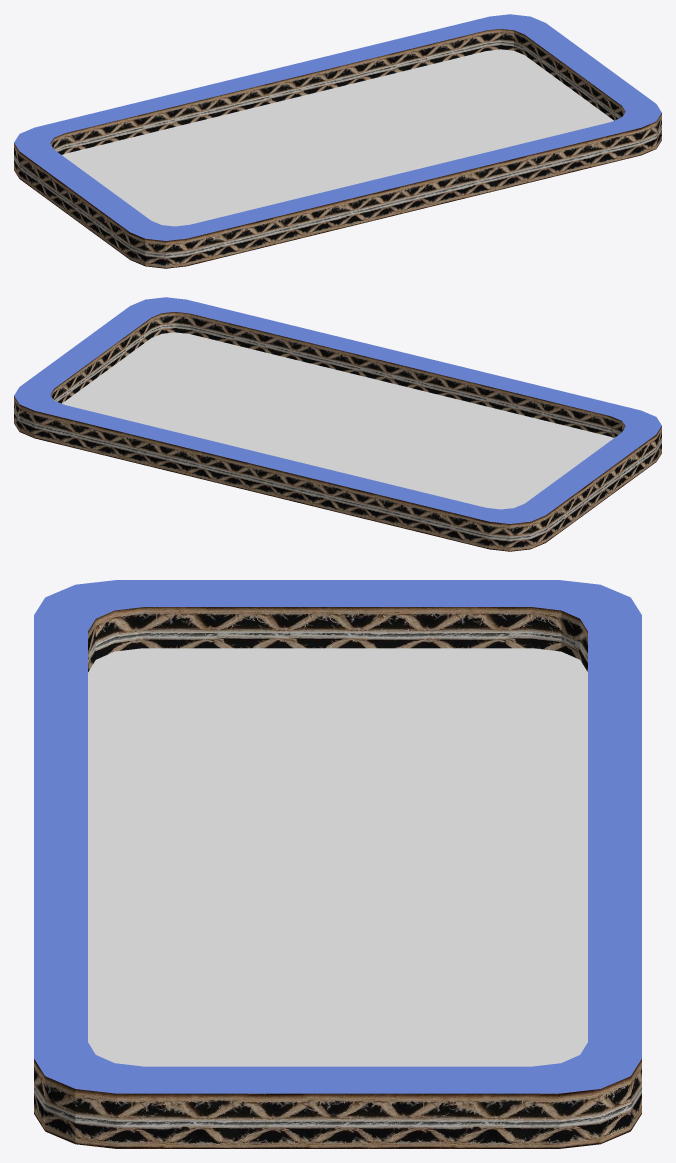
The model's file is Monitor.fbx.
The picture shows the model from 3 angles, top to bottom: view 1: azimuth 30°, elevation 25°; view 2: azimuth 150°, elevation 25°; view 3: azimuth 270°, elevation 25°; orthographic projection. The views are drawn at different scales.
Parts seen in each view (by area): view 1: Plane.003; view 2: Plane.003; view 3: Plane.003.
Part boxes in pixels (<box>): Plane.003: <box>14,14,661,268</box>; Plane.003: <box>14,297,661,551</box>; Plane.003: <box>34,580,641,1148</box>.
Size of the model in its own units: 400 by 20.09 by 200.
3 materials, 1 textured.
